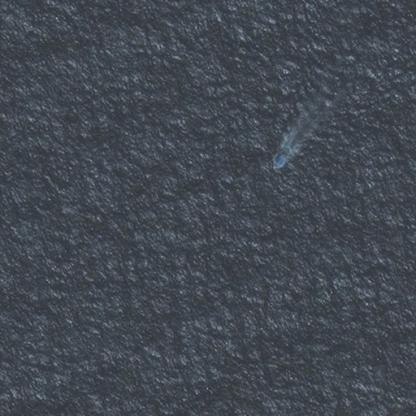ship: (266, 143, 294, 173)
